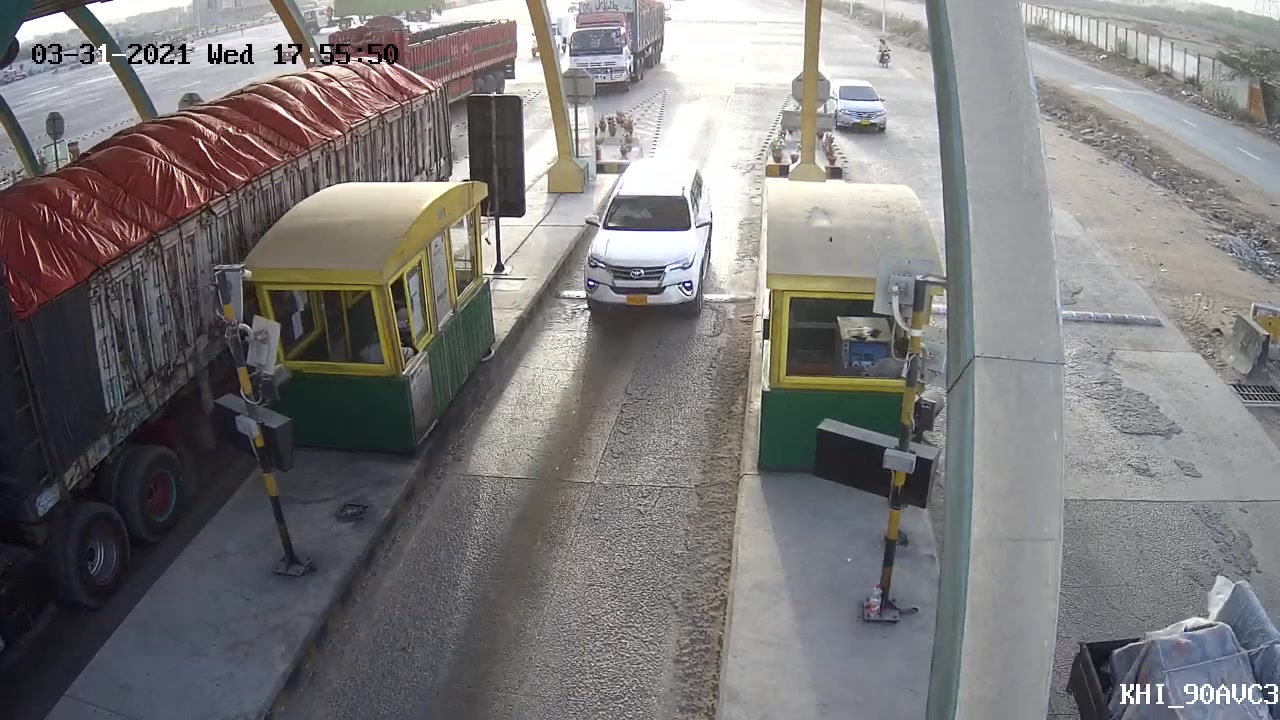F1: (567, 150, 718, 311)
